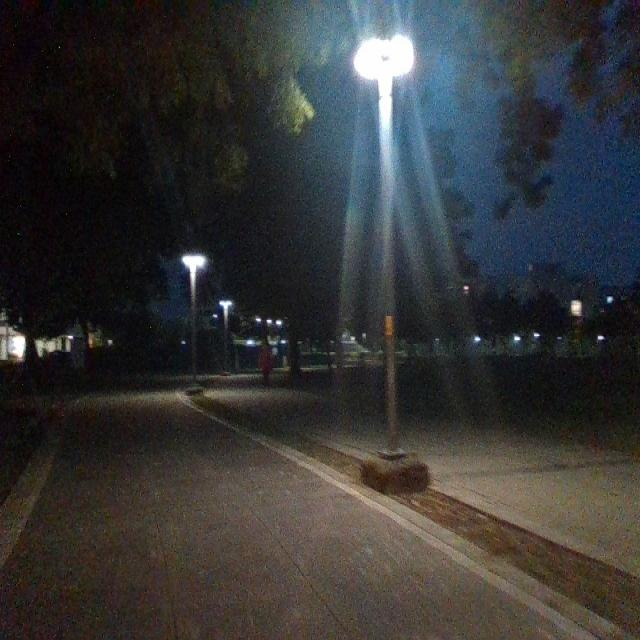lane: (0, 390, 578, 640)
